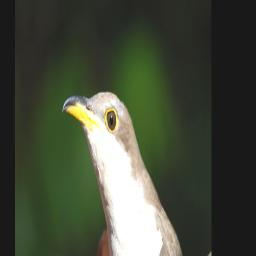Cuckoo: (51, 68, 203, 256)
